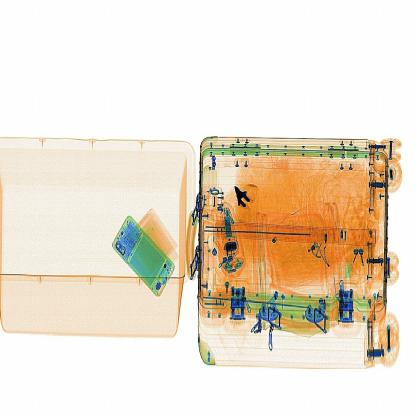gun: (221, 169, 268, 229)
